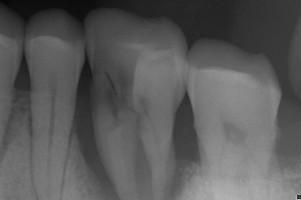Dental Caries: (74, 96, 119, 200), (171, 101, 200, 199), (135, 141, 153, 199)
